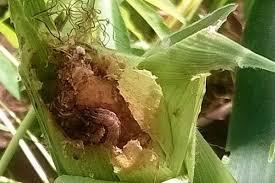fallarmy_worm: (80, 106, 126, 151)
